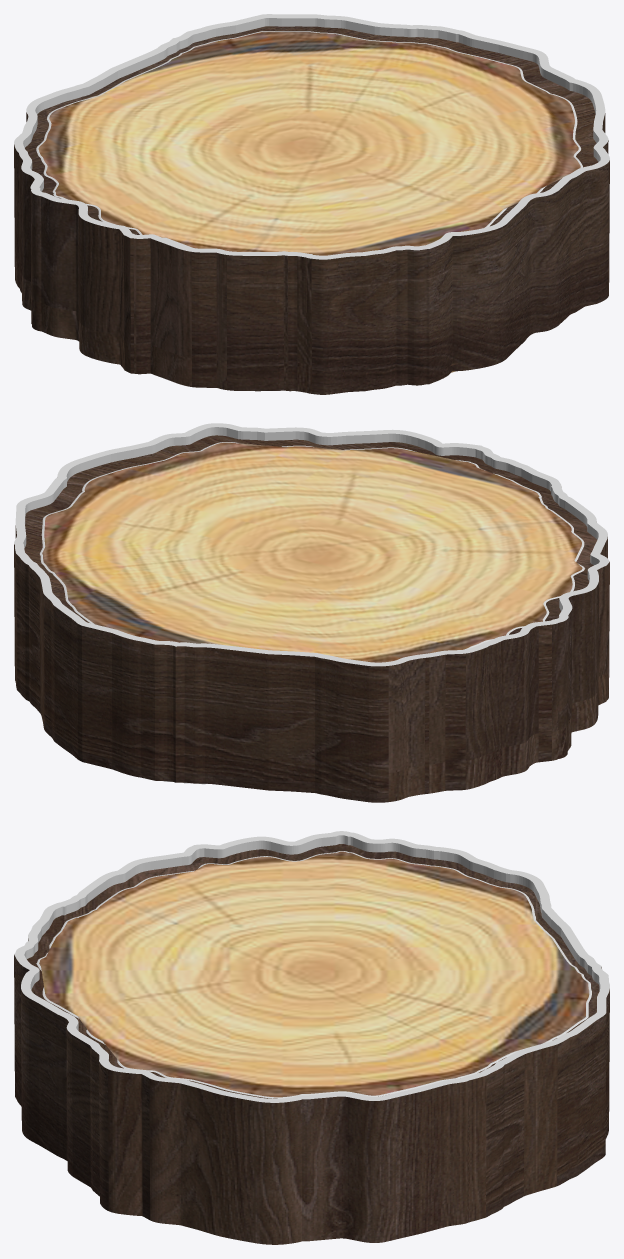
Rendered from wood.fbx.
3 views of the same model, one above another, from view 1: azimuth 30°, elevation 25°; view 2: azimuth 150°, elevation 25°; view 3: azimuth 270°, elevation 25° (orthographic). The views are drawn at different scales.
Parts seen in each view (by area): view 1: Шапка_2_2, Выдавливание_NURBS_1, Закругление_2, Шапка_2, Закругление_2_2; view 2: Шапка_2_2, Выдавливание_NURBS_1, Закругление_2, Шапка_2, Закругление_2_2; view 3: Шапка_2_2, Выдавливание_NURBS_1, Закругление_2, Шапка_2, Закругление_2_2.
Boxes of the visible parts, x1=… form: Шапка_2_2: x1=38, y1=31, x2=580, y2=255; Выдавливание_NURBS_1: x1=14, y1=112, x2=609, y2=394; Закругление_2: x1=14, y1=14, x2=609, y2=259; Шапка_2: x1=25, y1=26, x2=598, y2=245; Закругление_2_2: x1=36, y1=31, x2=582, y2=247; Шапка_2_2: x1=42, y1=442, x2=582, y2=662; Выдавливание_NURBS_1: x1=14, y1=525, x2=609, y2=802; Закругление_2: x1=14, y1=423, x2=609, y2=666; Шапка_2: x1=24, y1=435, x2=597, y2=634; Закругление_2_2: x1=40, y1=442, x2=584, y2=649; Шапка_2_2: x1=39, y1=851, x2=589, y2=1097; Выдавливание_NURBS_1: x1=14, y1=938, x2=609, y2=1244; Закругление_2: x1=14, y1=831, x2=609, y2=1102; Шапка_2: x1=27, y1=844, x2=599, y2=1098; Закругление_2_2: x1=36, y1=851, x2=591, y2=1098.
Size of the model in its own units: 1505 by 386 by 1394.
Materials: 6 (6 with a texture image).
